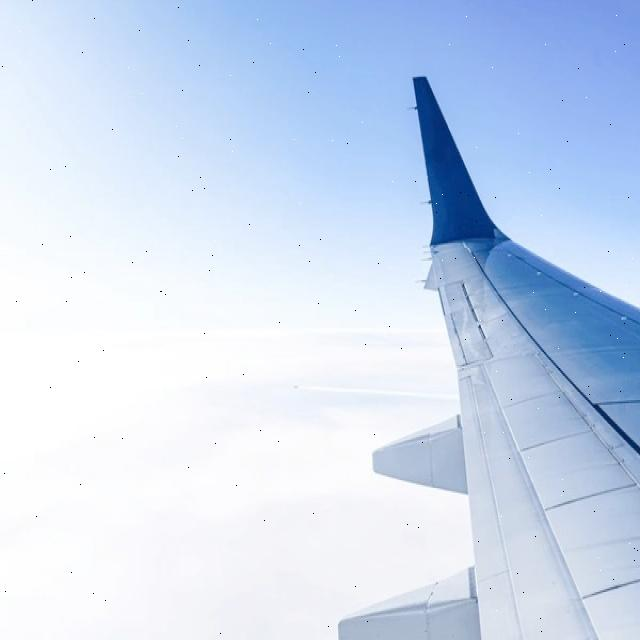aircraft: (278, 45, 640, 640)
